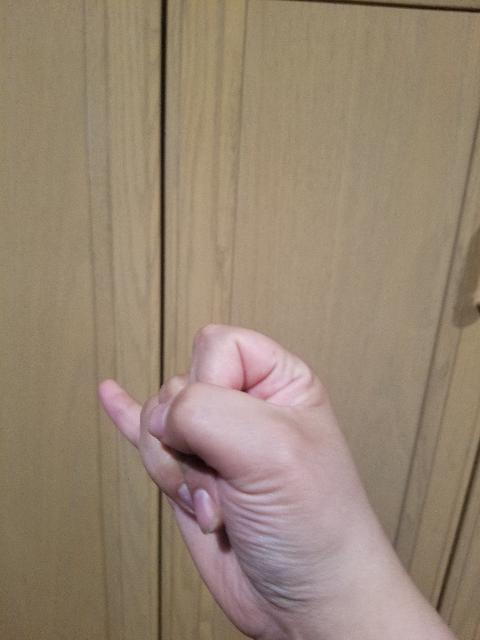J: (93, 316, 389, 640)
